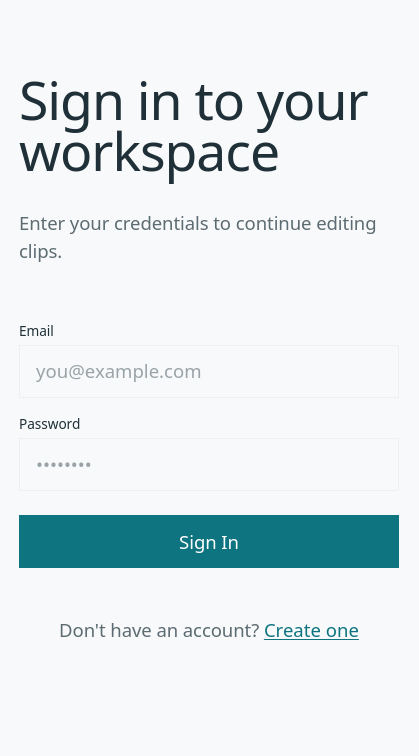
Test: root provider, forms and HTTP integration (F1–F3) › associates all 422 field errors and focuses first invalid field for register=true
The width and height of the screenshot is (419, 756).
(page scrolled)
Expected: the button "Sign In" is shown, [19,515,399,568]
Click the button "Create one" at (311, 630), box [264,616,359,644]
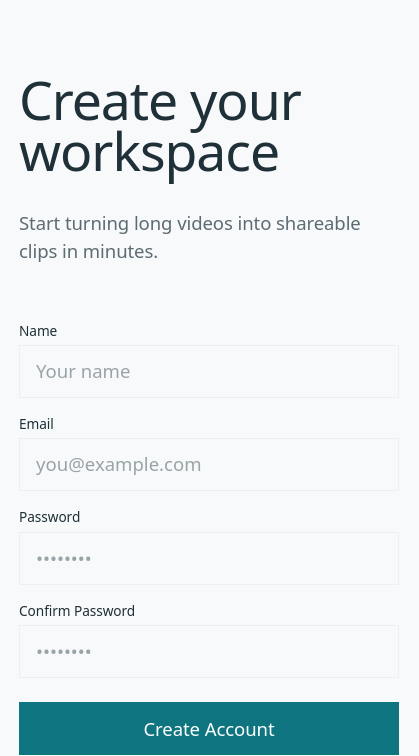
Type "Mira Vale" into the field labelled "Name" at (209, 372), box [19,345,399,398]
Type "mira@example.test" into the field labelled "Email" at (209, 465), box [19,438,399,491]
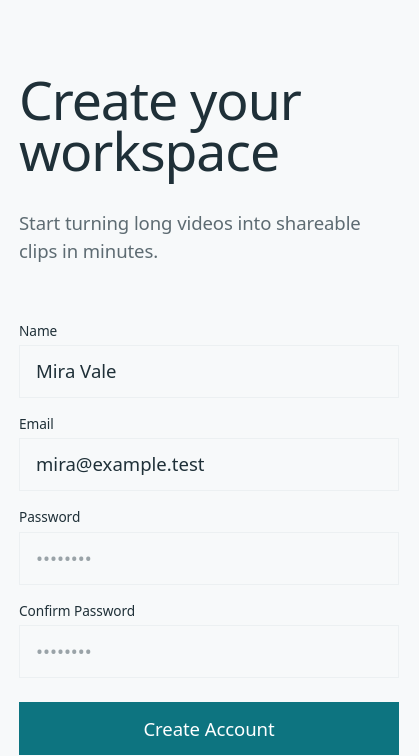
Type "test-password" into the password field labelled "Password" at (209, 558), box [19,532,399,585]
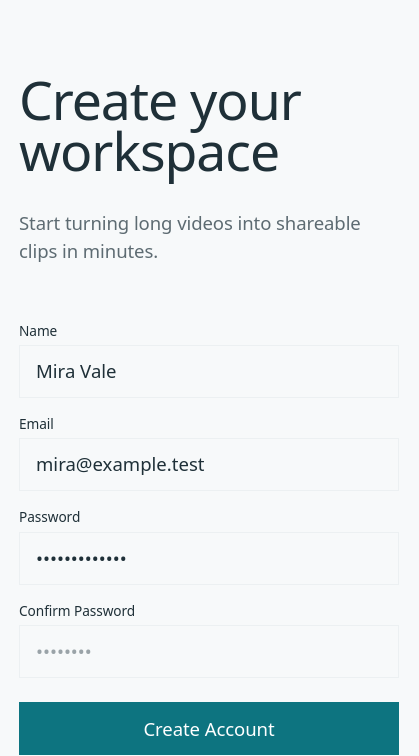
Type "test-password" into the password field labelled "Confirm Password" at (209, 652), box [19,625,399,678]
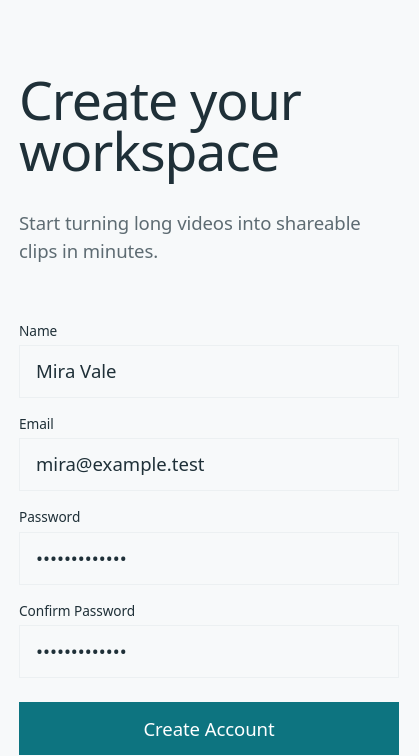
Submit the form "Create Account", box [19,321,399,755]
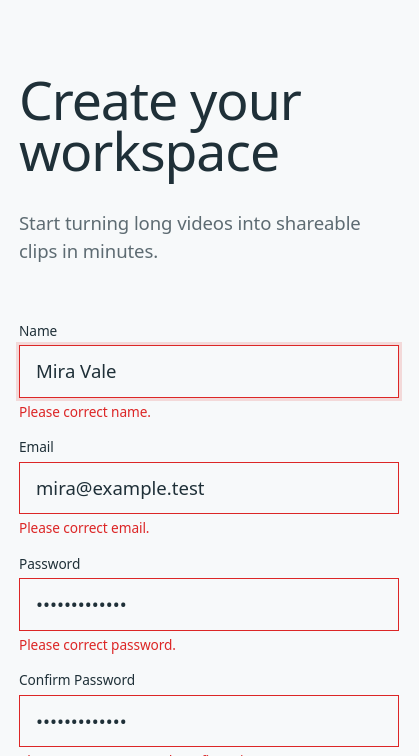
Expected: the field labelled "Email" is marked as invalid, [19,462,399,514]
Expected: the password field labelled "Password" is marked as invalid, [19,578,399,631]
Expected: the password field labelled "Confirm Password" is marked as invalid
Type "corrected-password" into the password field labelled "Confirm Password" at (209, 721), box [19,694,399,747]
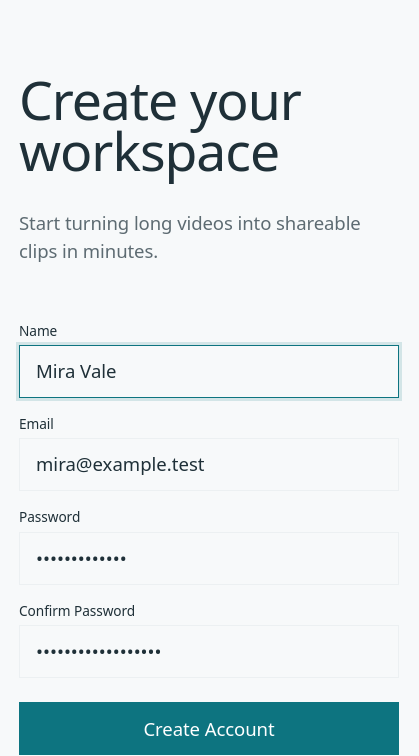
Expected: the message "Please correct name." is gone
